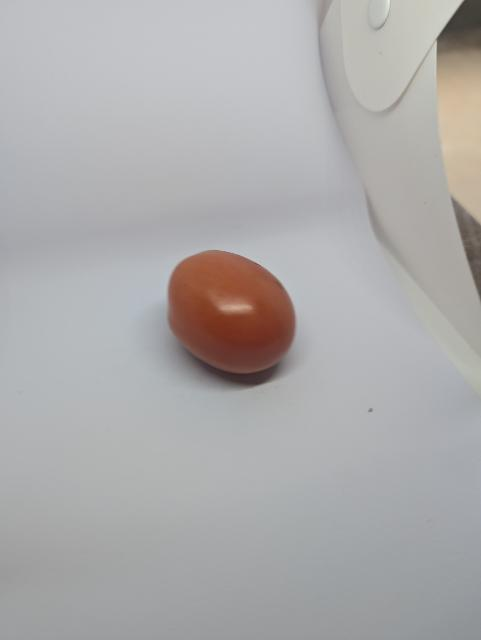red: (166, 246, 301, 379)
